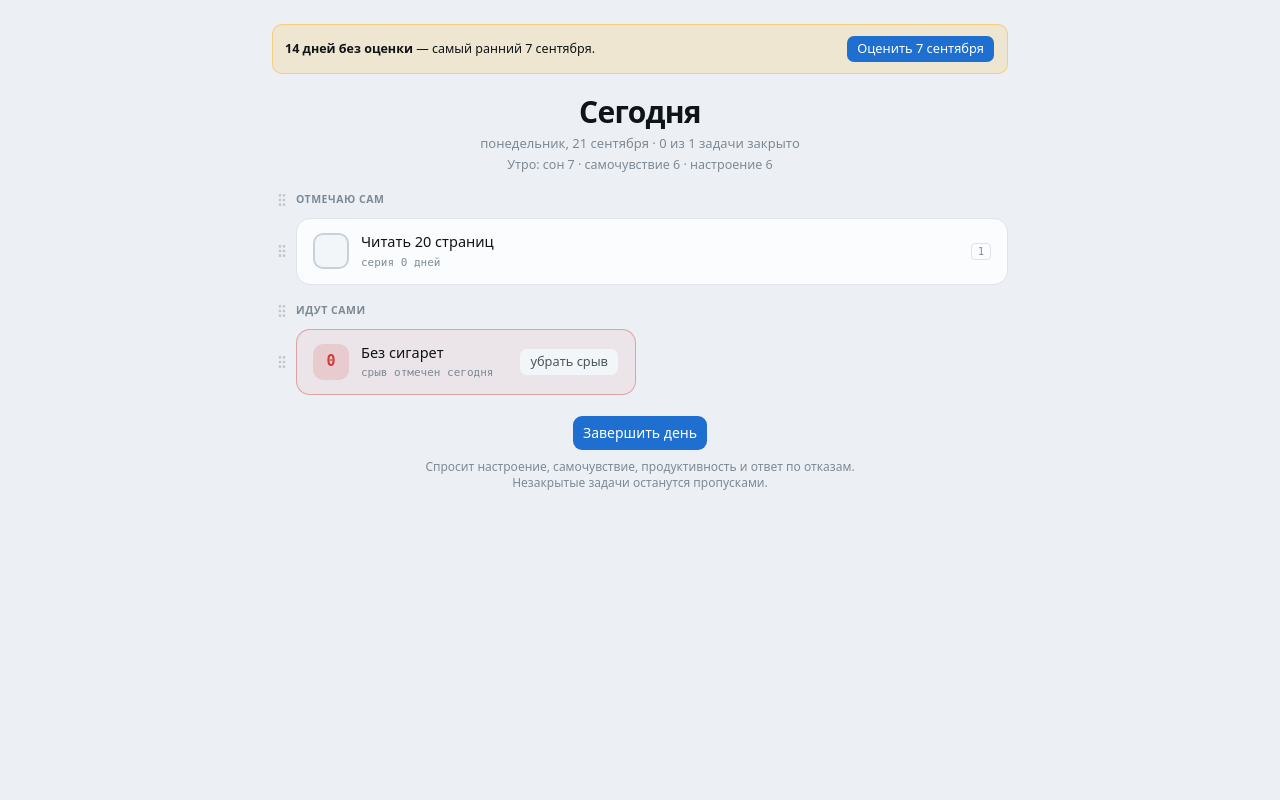
it: экран дня — отказ отвечает вечером «Да, без» (срез 5а) › срыв, отмеченный днём, в окне уже стоит «Сорвался»
Click the button "Завершить день" at (640, 433), box [572,415,708,451]
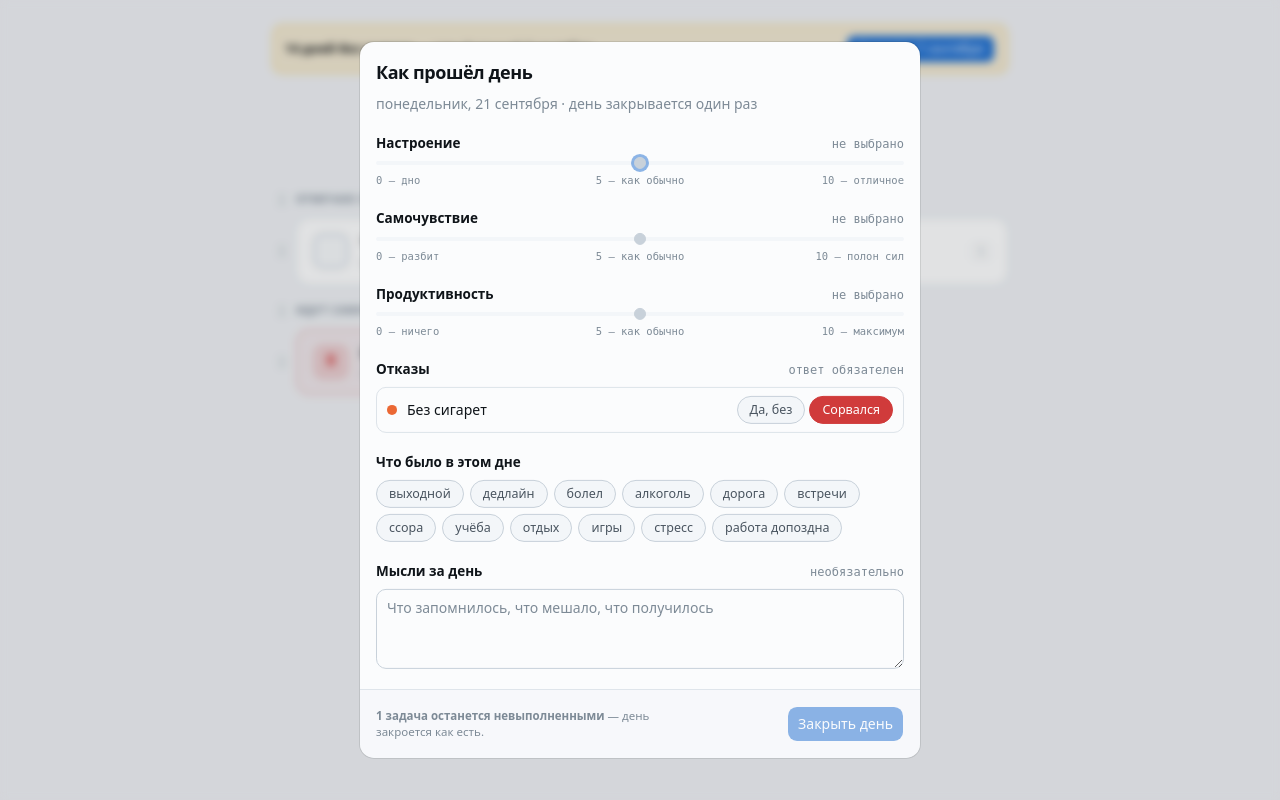
Press Arrowright
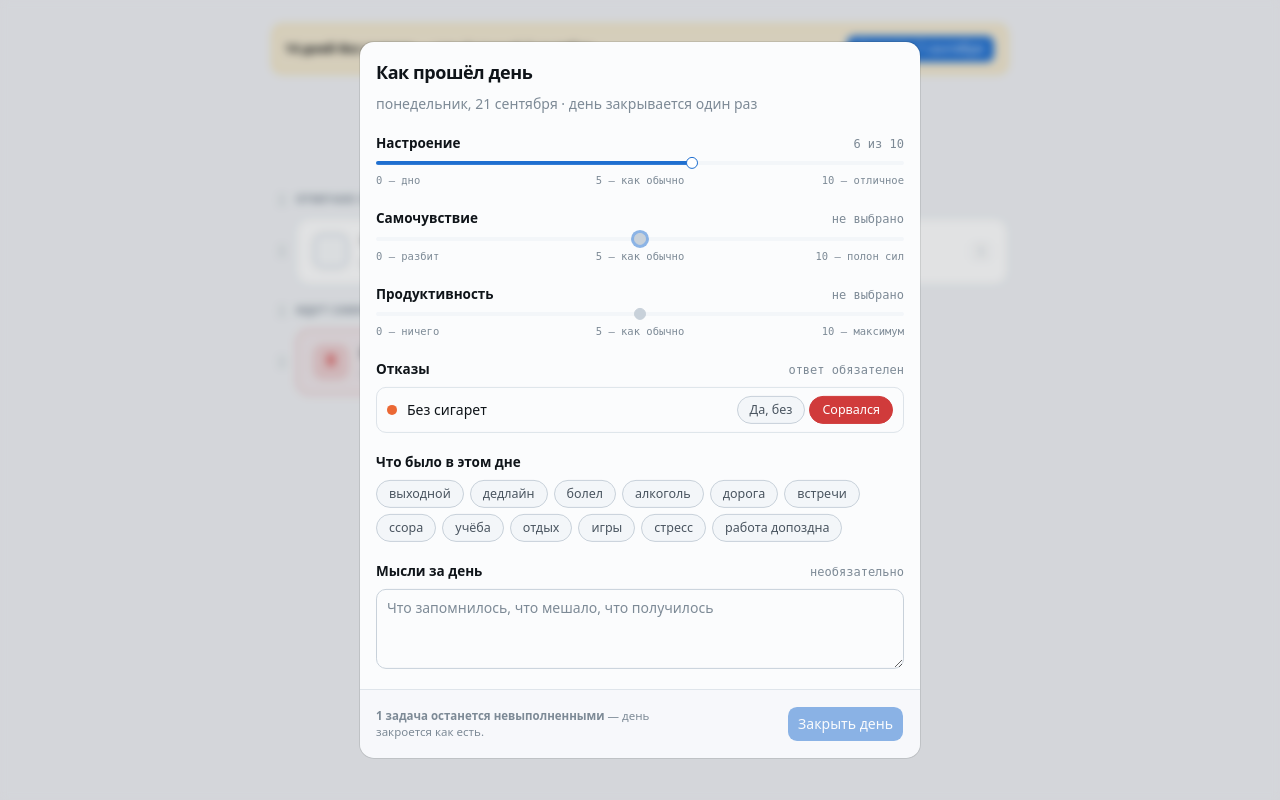
Press Arrowright
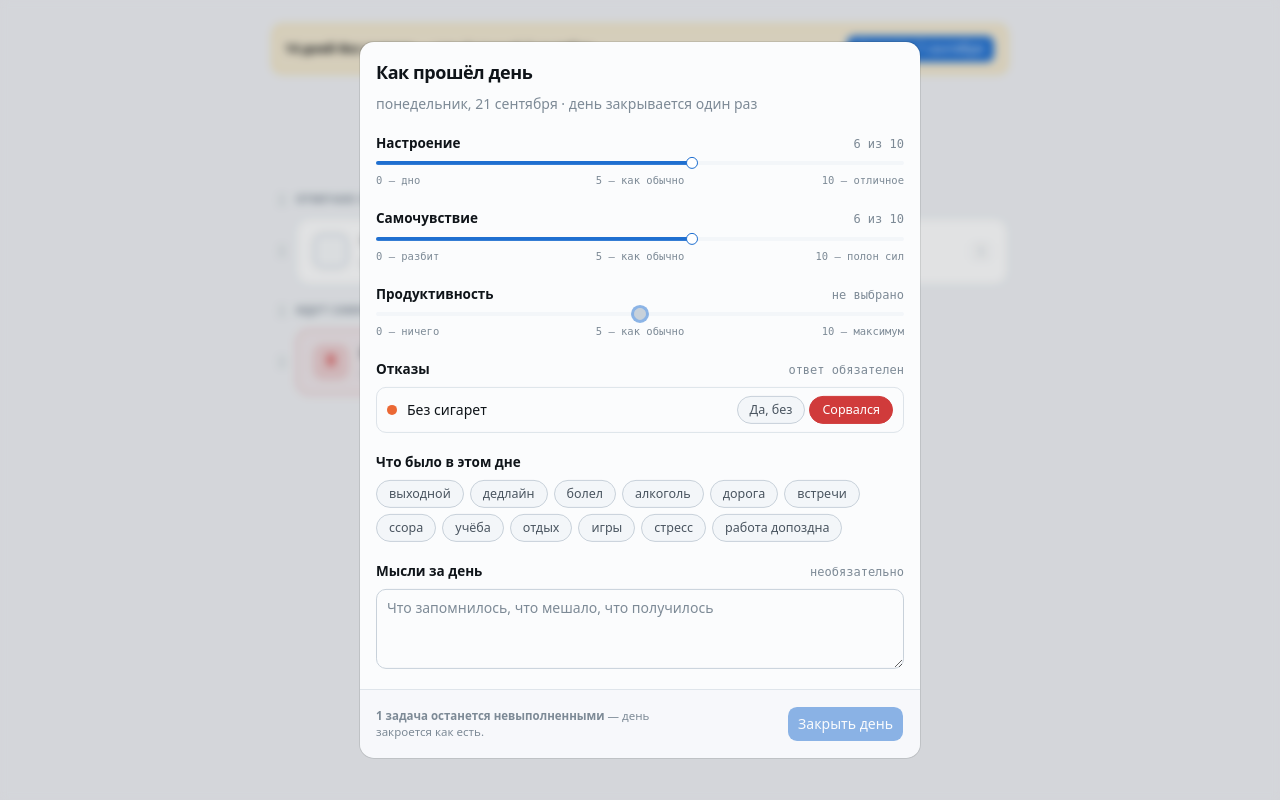
Press Arrowright
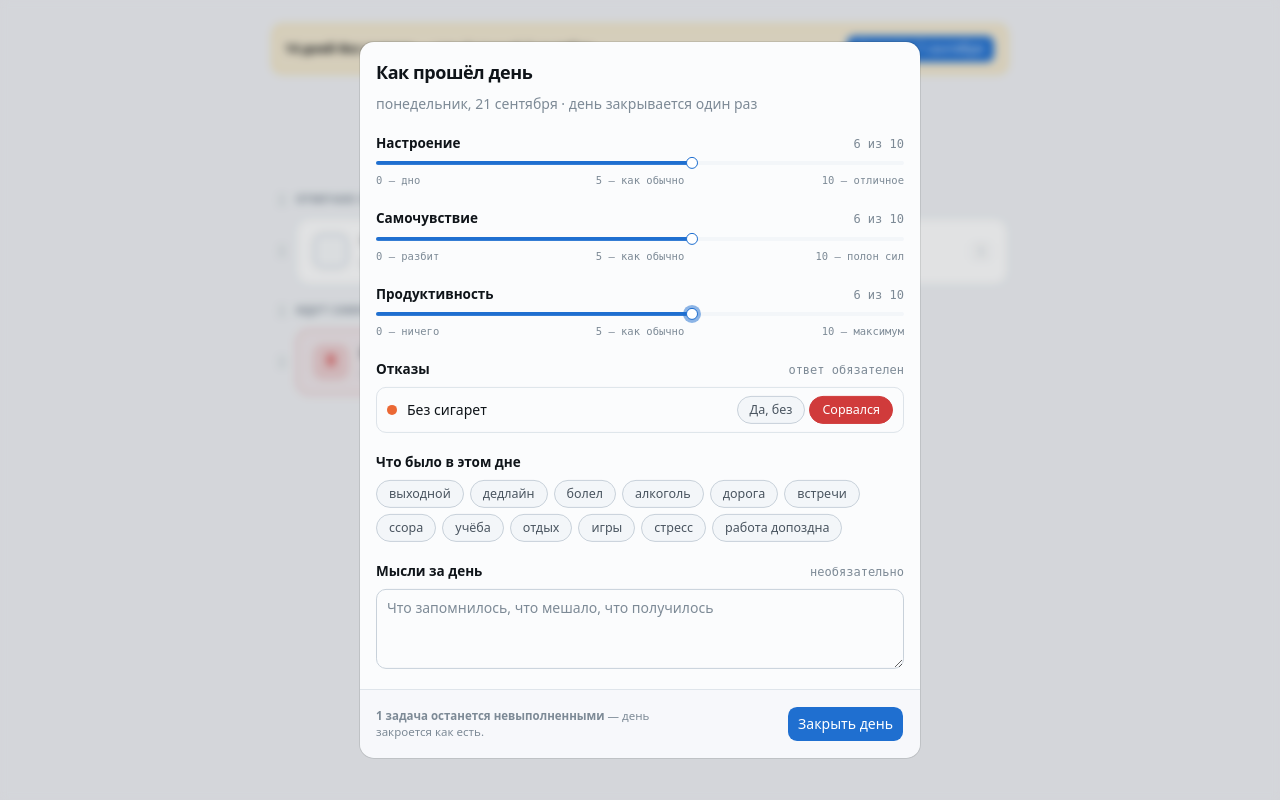
Expected: the button "Закрыть день" is enabled, [787,706,904,742]
